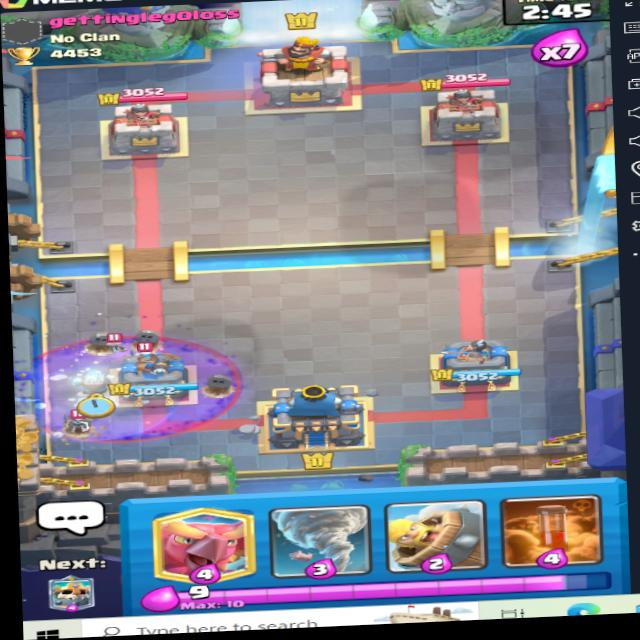graveyard: (18, 317, 247, 450)
skeleton: (59, 401, 92, 434), (98, 332, 129, 355)
